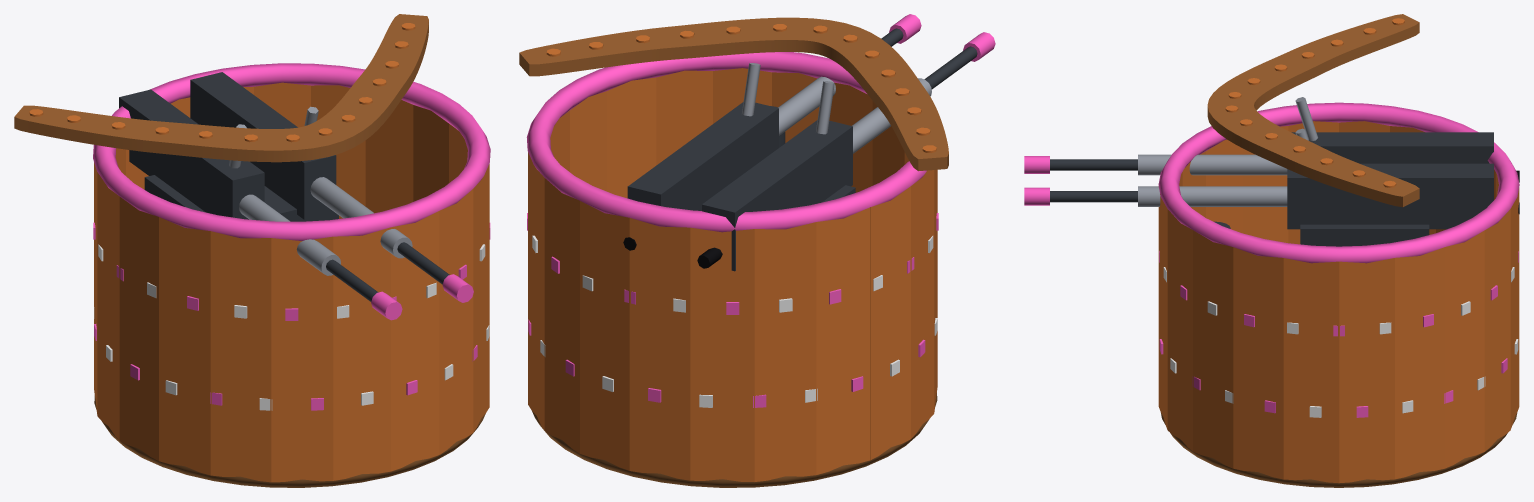
The model's file is boomerang.obj.
3 renders of one model, left to right at view 1: azimuth 30°, elevation 25°; view 2: azimuth 150°, elevation 25°; view 3: azimuth 270°, elevation 25°, orthographic. The views are drawn at different scales.
Parts seen in each view (by area): view 1: stand, turret; view 2: stand, turret; view 3: stand, turret.
Part boxes in pixels (bbox=[...]): stand: bbox=[93, 63, 490, 487]; turret: bbox=[14, 14, 473, 320]; stand: bbox=[526, 52, 938, 487]; turret: bbox=[519, 14, 995, 271]; stand: bbox=[1158, 102, 1519, 487]; turret: bbox=[1024, 14, 1519, 246].
Size of the model in its own units: 1.68 by 1.26 by 1.92.
